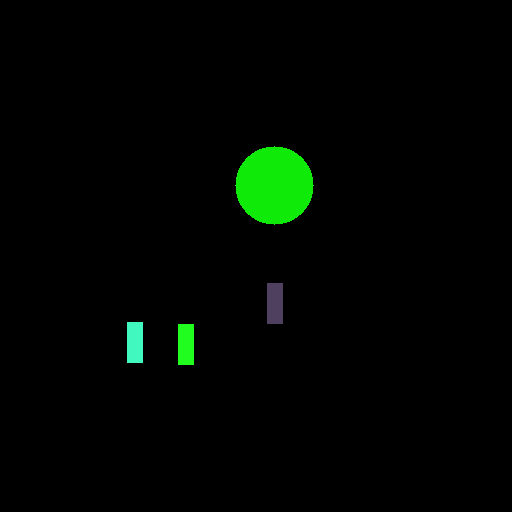circle: (236, 146, 314, 223)
up_rect: (266, 280, 287, 324), (171, 322, 192, 366), (121, 318, 142, 362)
